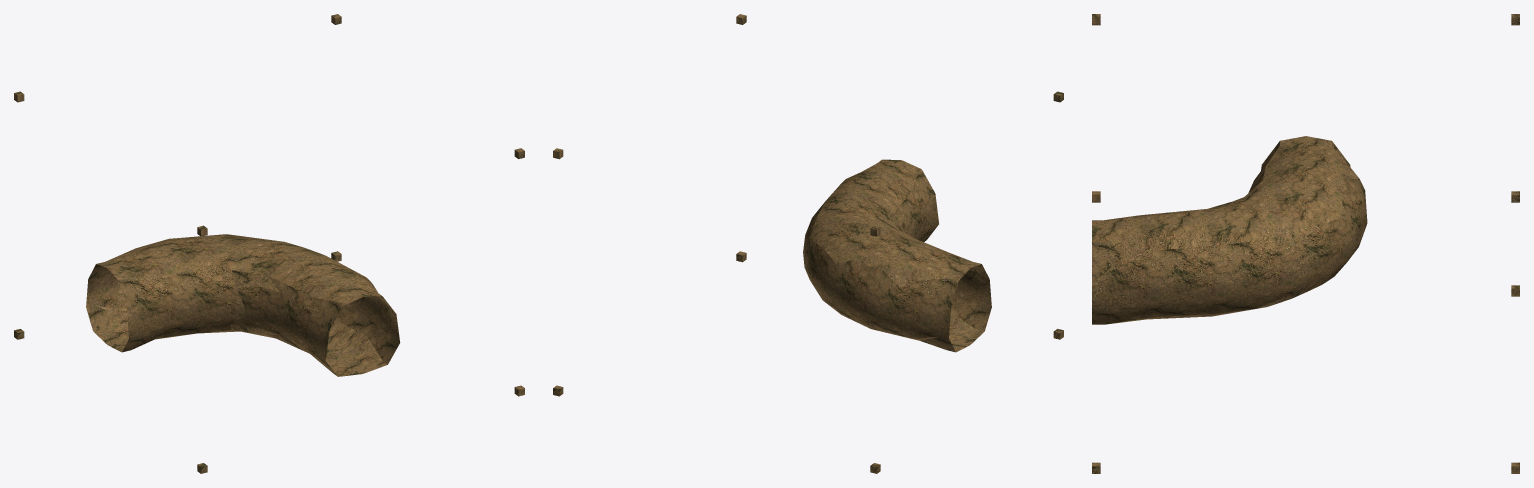
Rendered from lba_2a.glb.
3 renders of one model, left to right at view 1: azimuth 30°, elevation 25°; view 2: azimuth 150°, elevation 25°; view 3: azimuth 270°, elevation 25°, orthographic. The views are drawn at different scales.
Parts seen in each view (by area): view 1: lba_2a-col; view 2: lba_2a-col; view 3: lba_2a-col.
Boxes of the visible parts, x1=… form: lba_2a-col: x1=14, y1=14, x2=524, y2=473; lba_2a-col: x1=553, y1=14, x2=1063, y2=473; lba_2a-col: x1=1092, y1=14, x2=1519, y2=473.
Size of the model in its own units: 15 by 10.8 by 15.
1 material, 1 textured.
